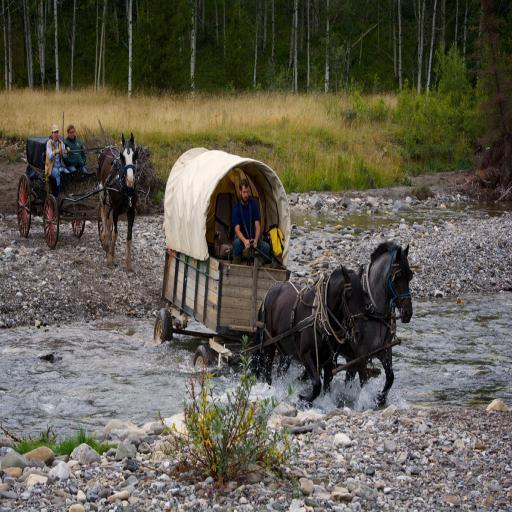horse: (294, 241, 414, 406), (250, 262, 366, 404), (94, 132, 140, 274)
